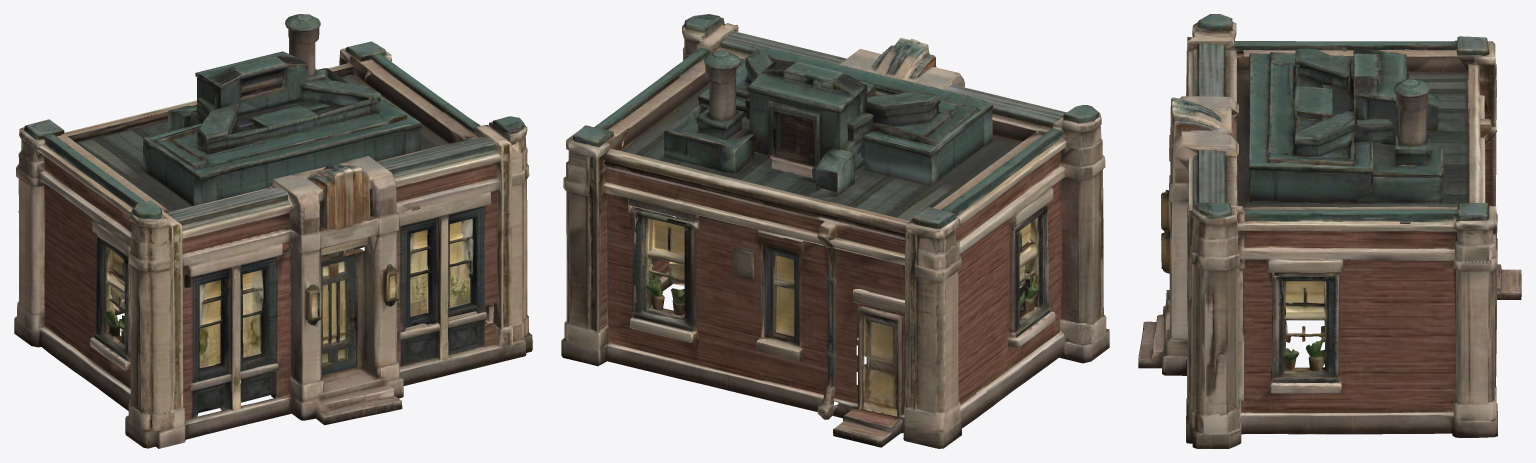
3 views of the same model, side by side, from view 1: azimuth 30°, elevation 25°; view 2: azimuth 150°, elevation 25°; view 3: azimuth 270°, elevation 25° (orthographic). The views are drawn at different scales.
Parts seen in each view (by area): view 1: expansion__tower_1__native_mobile; view 2: expansion__tower_1__native_mobile; view 3: expansion__tower_1__native_mobile.
Part boxes in pixels (x1,y1,x2,y2): expansion__tower_1__native_mobile: (14,14,532,448); expansion__tower_1__native_mobile: (561,14,1109,448); expansion__tower_1__native_mobile: (1138,14,1521,448).
Size of the model in its own units: 1 by 0.7117 by 0.8128.
Materials: 1 (1 with a texture image).
